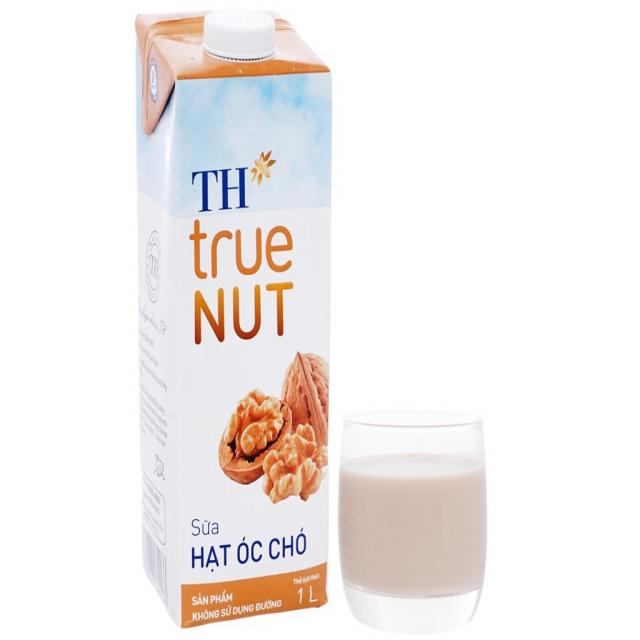non_white_jug: (117, 9, 327, 610)
